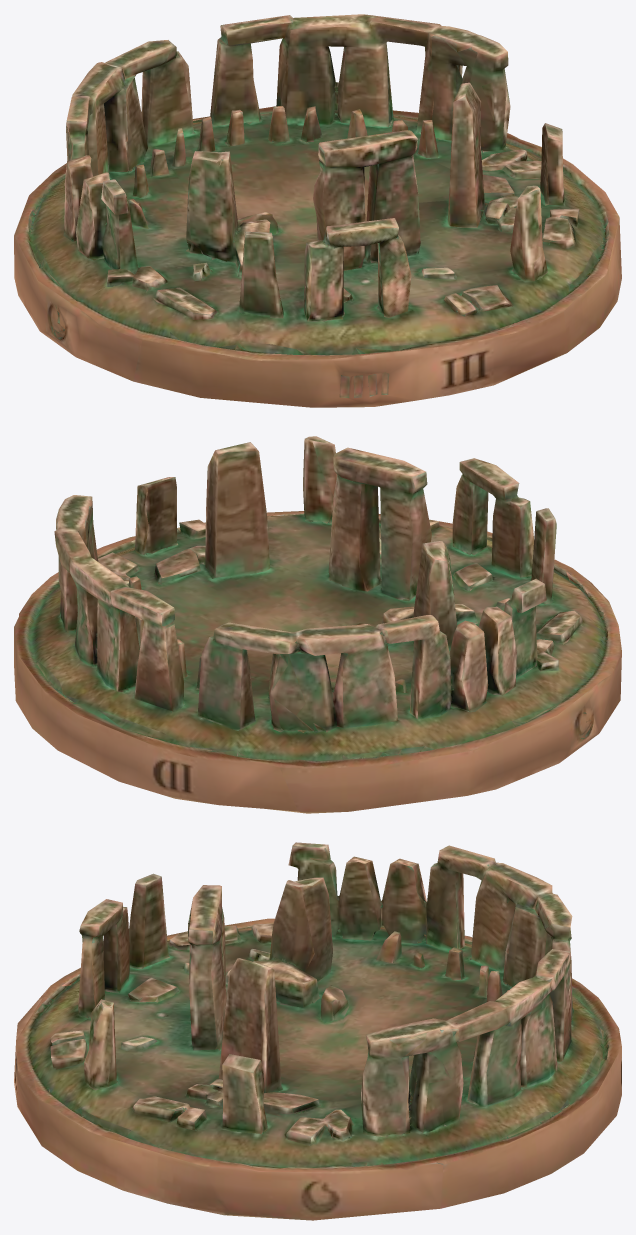
Rendered from stonehenge.glb.
The picture shows the model from 3 angles, top to bottom: view 1: azimuth 30°, elevation 25°; view 2: azimuth 150°, elevation 25°; view 3: azimuth 270°, elevation 25°; orthographic projection.
Visible parts, largest first — view 1: Mesh_0; view 2: Mesh_0; view 3: Mesh_0.
Part boxes in pixels (x1,y1,x2,y2): Mesh_0: (14,14,621,407); Mesh_0: (14,436,621,813); Mesh_0: (14,842,621,1220).
Bounding box in the file's own units: 1.91 × 0.6513 × 1.9.
Materials: 1 (1 with a texture image).
